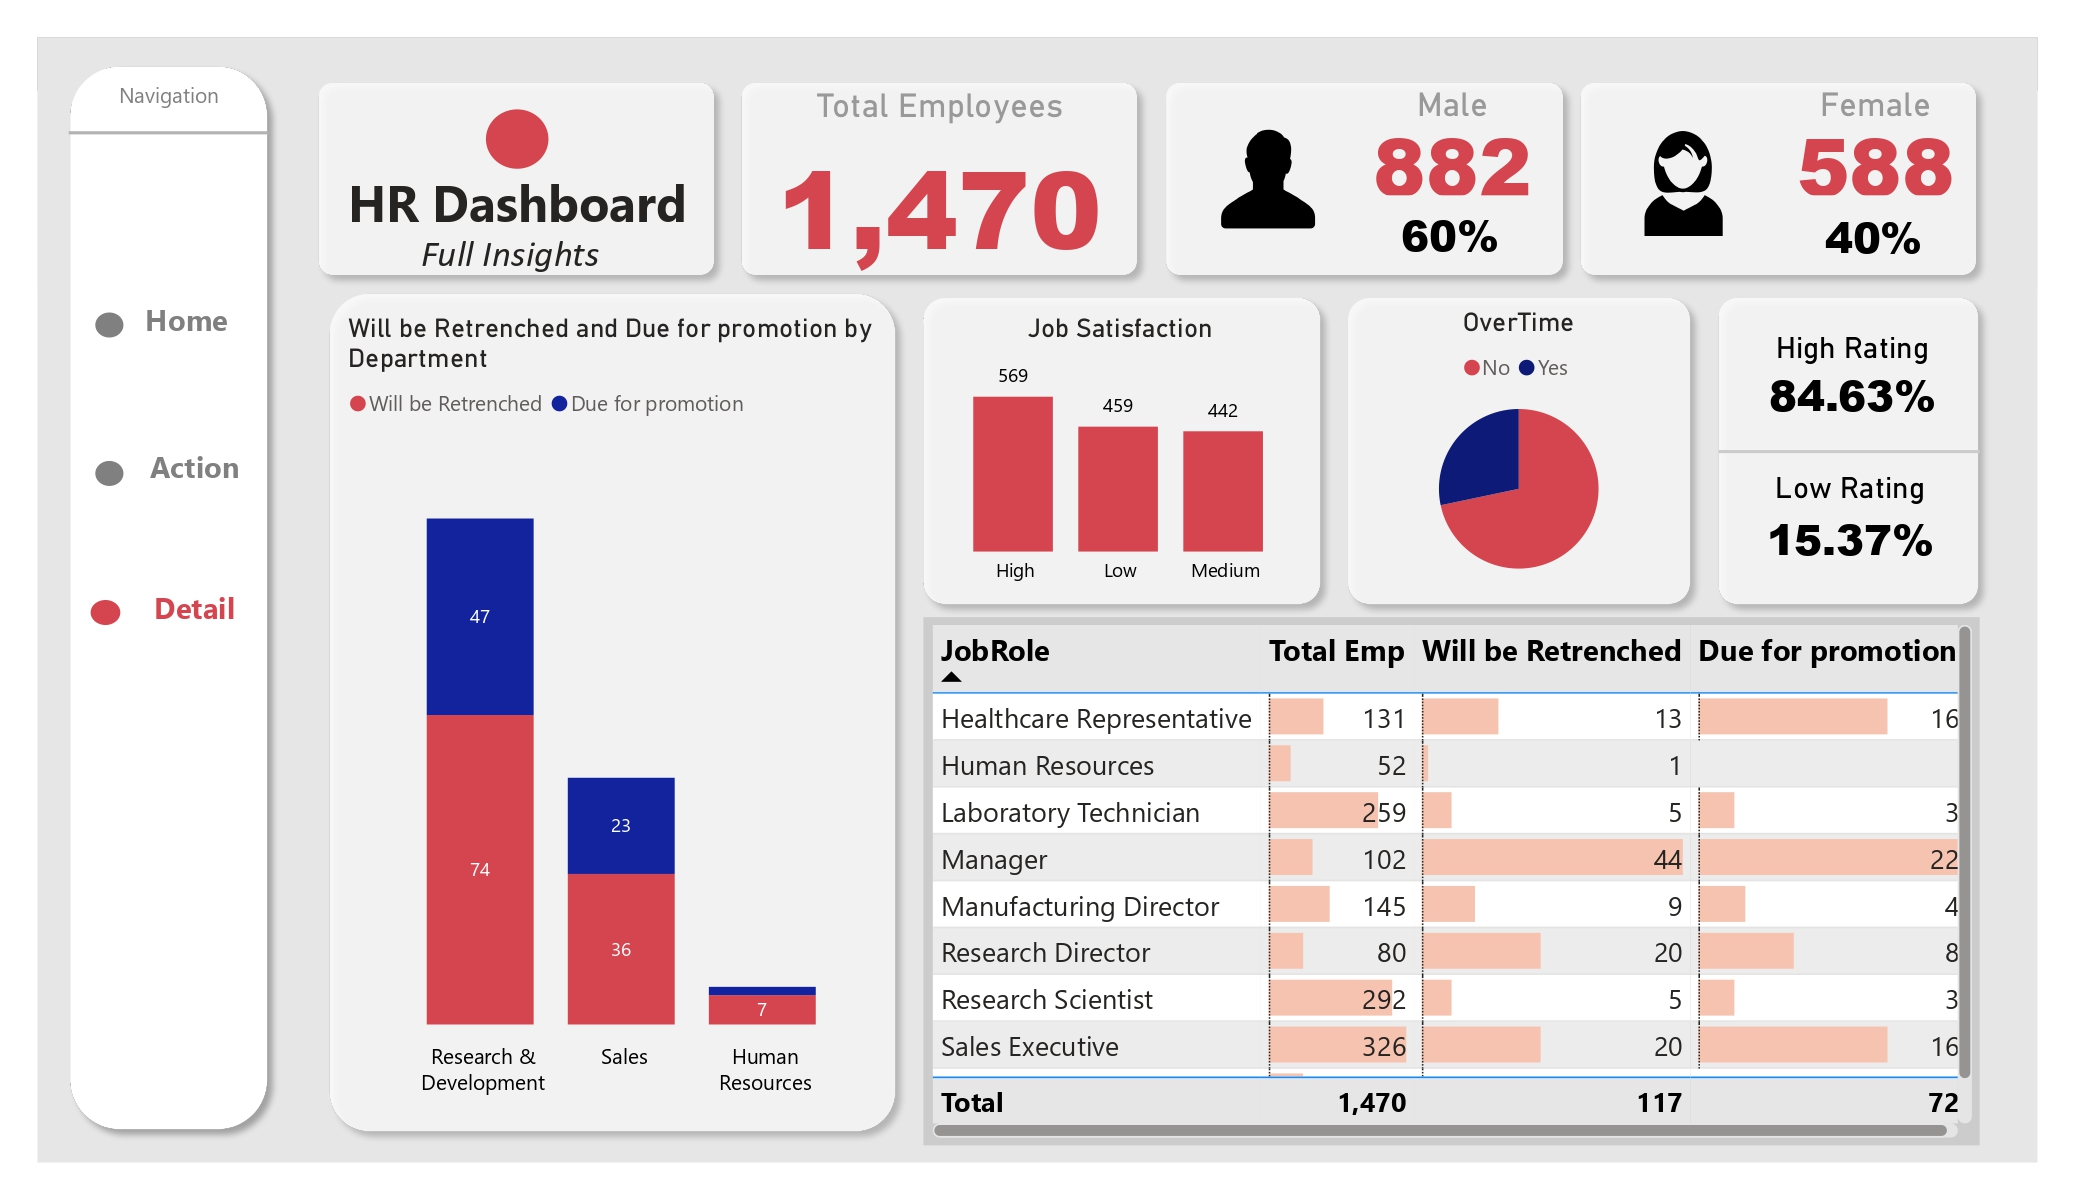

Layout of this report page (visuals, bound fields, positions):
{"tool":"powerbi","page":{"name":"Detail","canvas":[1280,720],"ordinal":2},"visuals":[{"type":"shape","box":[171.2,20,271.1,141.3],"z":0},{"type":"shape","box":[11.6,10.3,144.5,698.1],"z":1000},{"type":"shape","box":[442.4,20,271.1,141.3],"z":2000},{"type":"shape","box":[713.5,20,271.1,141.3],"z":3000},{"type":"shape","box":[978.9,20,271.1,141.3],"z":4000},{"type":"textbox","box":[176.9,78.5,259.7,54.2],"z":5000},{"type":"textbox","box":[172.7,118.4,259.7,40],"z":6000},{"type":"shape","box":[286.8,45.7,40,38.5],"z":7000},{"type":"card","title":"Total Employees","fields":{"Values":["All Measures.Total Emp"]},"box":[455.2,31.3,244.8,123.9],"z":8000},{"type":"card","title":"Male","fields":{"Values":["All Measures.Male"]},"box":[839.1,30,132.7,75.6],"z":9000},{"type":"card","title":"Male","fields":{"Values":["All Measures.% Male"]},"box":[847.6,101.3,112.7,51.4],"z":10000},{"type":"card","title":"Female","fields":{"Values":["All Measures.Female"]},"box":[1110.2,30,132.7,75.6],"z":11000},{"type":"card","title":"Male","fields":{"Values":["All Measures.% Female"]},"box":[1119.4,103,111.9,50.7],"z":12000},{"type":"image","box":[736.3,57.1,102.7,67.1],"z":13000},{"type":"image","box":[997.5,59.9,112.7,67.1],"z":14000},{"type":"shape","box":[177.6,155.2,380.6,553.7],"z":15000},{"type":"columnChart","fields":{"Category":["HR Analytics Data.Department"],"Y":["All Measures.Will be Retrenched","All Measures.Due for promotion"]},"box":[194,176.1,349.3,509],"z":16000},{"type":"shape","box":[558.2,158.2,271.6,213.4],"z":17000},{"type":"shape","box":[829.9,158.2,237.3,213.4],"z":18000},{"type":"shape","box":[1067.2,158.2,183.6,213.4],"z":19000},{"type":"shape","box":[1075.9,257.8,167.5,14.5],"z":20000},{"type":"columnChart","title":"Job Satisfaction","fields":{"Category":["HR Analytics Data.Job Satisfaction"],"Y":["All Measures.Total Emp"]},"box":[567.2,175.9,251.7,182.8],"z":21000},{"type":"pieChart","title":"OverTime","fields":{"Category":["HR Analytics Data.OverTime"],"Y":["All Measures.Total Emp"]},"box":[840.6,172.5,214.5,185.5],"z":22000},{"type":"tableEx","fields":{"Values":["HR Analytics Data.JobRole","All Measures.Total Emp","All Measures.Will be Retrenched","All Measures.Due for promotion"]},"box":[566.7,371,676.8,337.7],"z":23000},{"type":"card","title":"High Rating","fields":{"Values":["All Measures.% High Rated PF"]},"box":[1088.4,187,146.4,63.8],"z":24000},{"type":"card","title":"Low Rating","fields":{"Values":["All Measures.% Low Rated PF"]},"box":[1088.4,276.8,143.5,68.1],"z":25000},{"type":"textbox","box":[19.5,23,128.7,46],"z":26000},{"type":"shape","box":[19.5,54,128.7,13.8],"z":27000},{"type":"actionButton","box":[19.5,160.9,128.7,44.8],"z":28000},{"type":"shape","box":[36.8,175.9,18.4,16.1],"z":29000},{"type":"textbox","box":[55.2,163.2,80.5,42.5],"z":30000},{"type":"textbox","box":[52.9,257.5,95.4,42.5],"z":31000},{"type":"shape","box":[36.8,271.3,18.4,16.1],"z":32000},{"type":"shape","box":[34.5,359.8,18.4,16.1],"z":33000},{"type":"textbox","box":[52.9,347.1,95.4,42.5],"z":34000},{"type":"actionButton","box":[19.5,254,128.7,44.8],"z":35000}]}

Visuals, with their boxes on the page's 1280x720 design canvas (x1, y1, x2, y2). These are canvas units, not pixel positions in the 2075x1200 screenshot, which may show the page scaled, cropped or inside an application window:
shape: region(171, 20, 442, 161)
shape: region(12, 10, 156, 708)
shape: region(442, 20, 714, 161)
shape: region(714, 20, 985, 161)
shape: region(979, 20, 1250, 161)
textbox: region(177, 78, 437, 133)
textbox: region(173, 118, 432, 158)
shape: region(287, 46, 327, 84)
"Total Employees" card: region(455, 31, 700, 155)
"Male" card: region(839, 30, 972, 106)
"Male" card: region(848, 101, 960, 153)
"Female" card: region(1110, 30, 1243, 106)
"Male" card: region(1119, 103, 1231, 154)
image: region(736, 57, 839, 124)
image: region(998, 60, 1110, 127)
shape: region(178, 155, 558, 709)
columnChart - HR Analytics Data.Department x All Measures.Will be Retrenched: region(194, 176, 543, 685)
shape: region(558, 158, 830, 372)
shape: region(830, 158, 1067, 372)
shape: region(1067, 158, 1251, 372)
shape: region(1076, 258, 1243, 272)
"Job Satisfaction" columnChart: region(567, 176, 819, 359)
"OverTime" pieChart: region(841, 172, 1055, 358)
tableEx - HR Analytics Data.JobRole x All Measures.Total Emp: region(567, 371, 1244, 709)
"High Rating" card: region(1088, 187, 1235, 251)
"Low Rating" card: region(1088, 277, 1232, 345)
textbox: region(20, 23, 148, 69)
shape: region(20, 54, 148, 68)
actionButton: region(20, 161, 148, 206)
shape: region(37, 176, 55, 192)
textbox: region(55, 163, 136, 206)
textbox: region(53, 258, 148, 300)
shape: region(37, 271, 55, 287)
shape: region(34, 360, 53, 376)
textbox: region(53, 347, 148, 390)
actionButton: region(20, 254, 148, 299)
